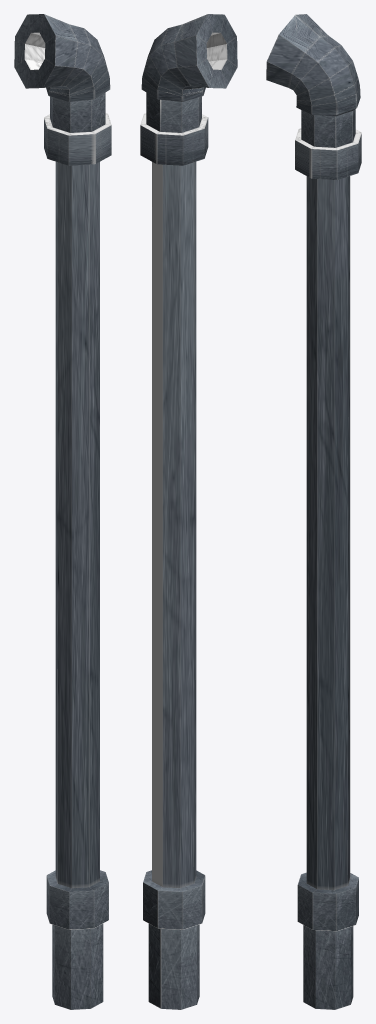
Rendered from pipe.fbx.fbx.
3 renders of one model, left to right at view 1: azimuth 30°, elevation 25°; view 2: azimuth 150°, elevation 25°; view 3: azimuth 330°, elevation 25°, orthographic.
Parts seen in each view (by area): view 1: pPipe1; view 2: pPipe1; view 3: pPipe1.
Boxes of the visible parts, x1,y1,x2,y2 form: pPipe1: (14,14,111,1009); pPipe1: (140,14,237,1009); pPipe1: (266,14,361,1009).
Size of the model in its own units: 0.3495 by 4.03 by 0.2951.
